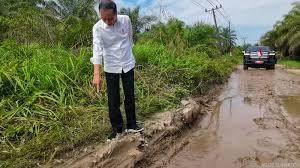Pothole: (149, 58, 300, 168)
